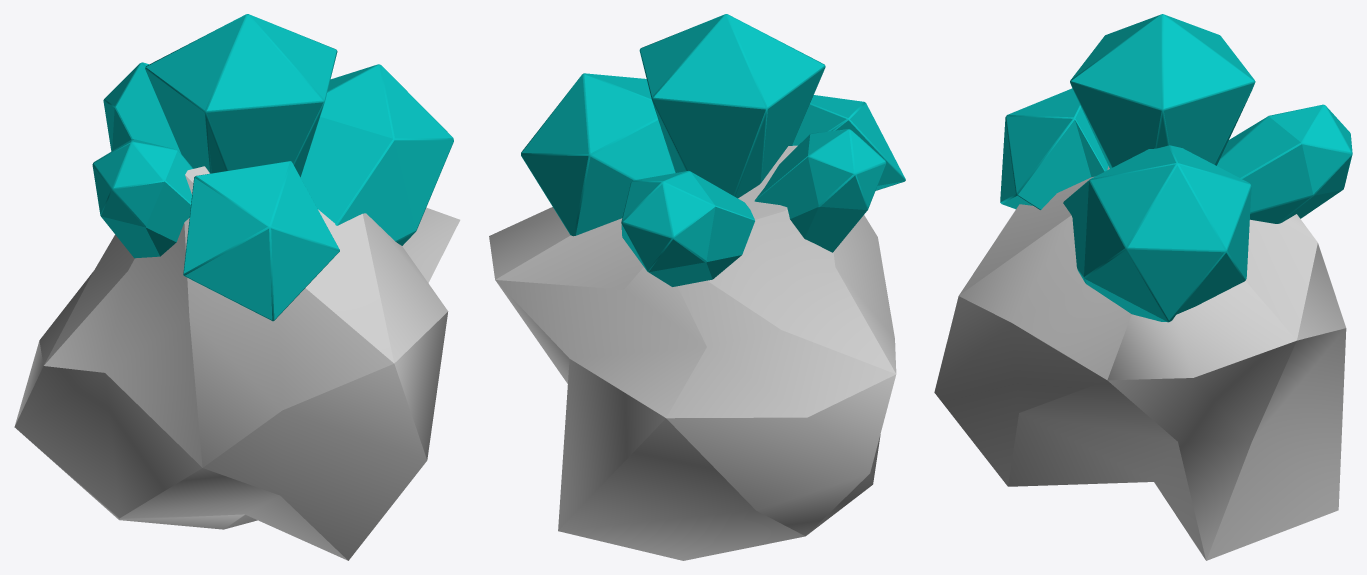
File: OreNode2.obj
3 views of the same model, side by side, from view 1: azimuth 30°, elevation 25°; view 2: azimuth 150°, elevation 25°; view 3: azimuth 270°, elevation 25° (orthographic). The views are drawn at different scales.
Visible parts, largest first — view 1: Icosphere, Gem_Cube.001; view 2: Icosphere, Gem_Cube.001; view 3: Icosphere, Gem_Cube.001.
Part boxes in pixels (x1,y1,x2,y2): Icosphere: (14, 166, 460, 560); Gem_Cube.001: (92, 14, 453, 321); Icosphere: (489, 145, 896, 560); Gem_Cube.001: (521, 14, 905, 286); Icosphere: (934, 166, 1346, 560); Gem_Cube.001: (1000, 14, 1352, 322).
Size of the model in its own units: 4.16 by 5.13 by 3.8.
